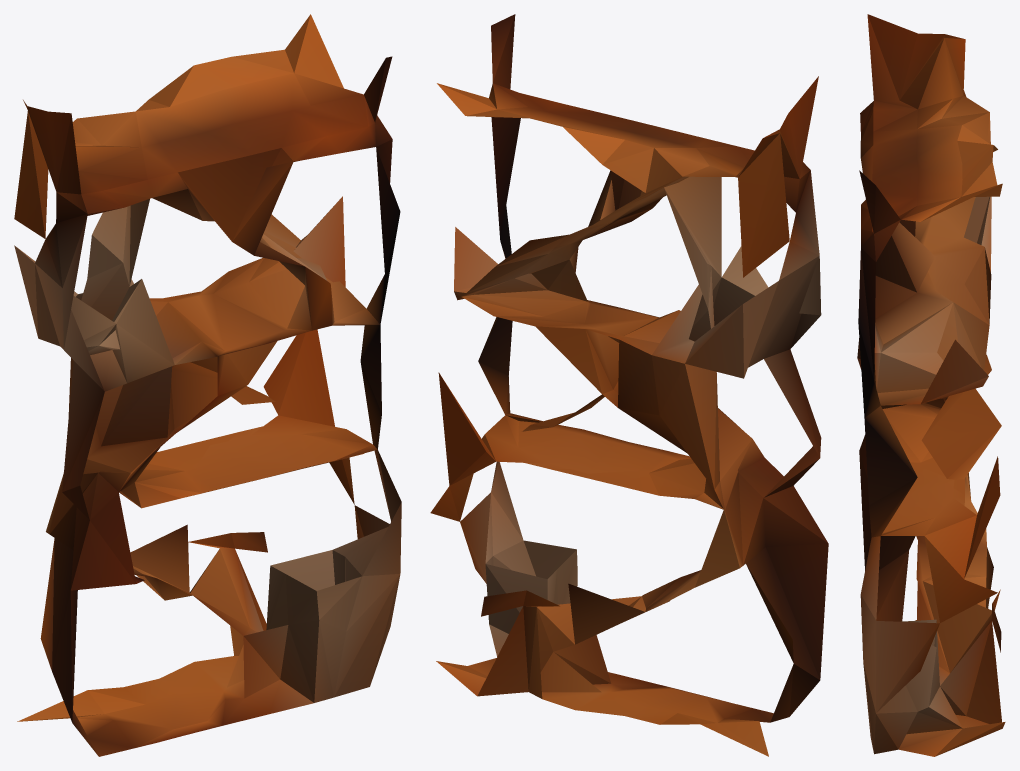
The picture shows the model from 3 angles, left to right: view 1: azimuth 30°, elevation 25°; view 2: azimuth 150°, elevation 25°; view 3: azimuth 270°, elevation 25°; orthographic projection. The views are drawn at different scales.
Bounding box in the file's own units: 2.4 × 4.5 × 1.
